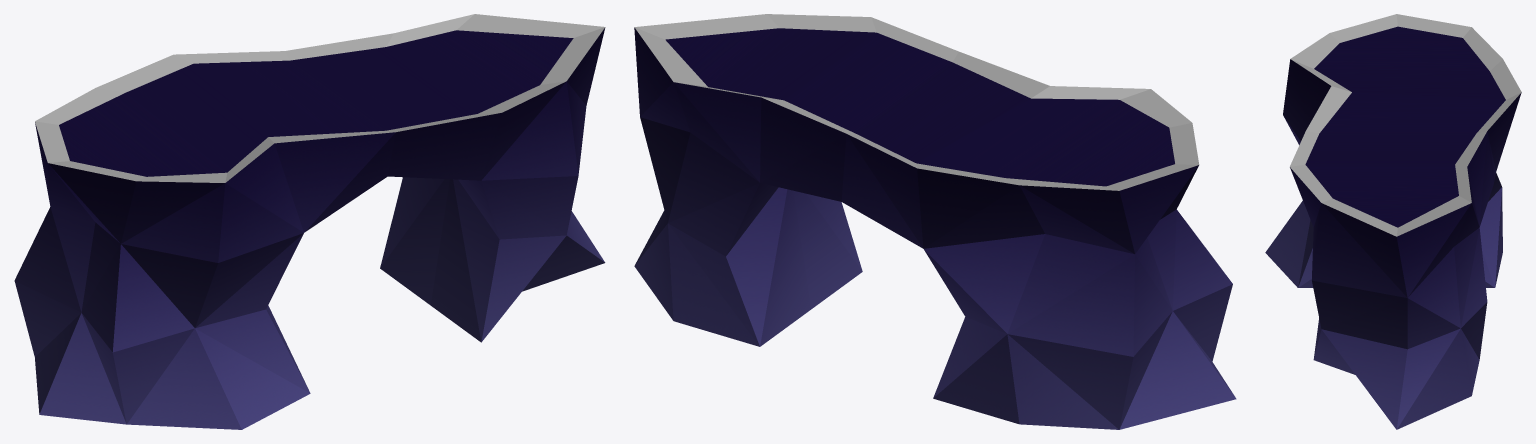
Rendered from MOD_PlatformV2_midden.fbx.
3 views of the same model, side by side, from view 1: azimuth 30°, elevation 25°; view 2: azimuth 150°, elevation 25°; view 3: azimuth 270°, elevation 25° (orthographic). The views are drawn at different scales.
Parts seen in each view (by area): view 1: MOD_PlatformV2_hoog; view 2: MOD_PlatformV2_hoog; view 3: MOD_PlatformV2_hoog.
Part boxes in pixels (x1,y1,x2,y2): MOD_PlatformV2_hoog: [14, 14, 605, 429]; MOD_PlatformV2_hoog: [634, 14, 1236, 429]; MOD_PlatformV2_hoog: [1265, 14, 1521, 429].
Bounding box in the file's own units: 5.16 × 2.03 × 2.41.
2 materials, 1 textured.
